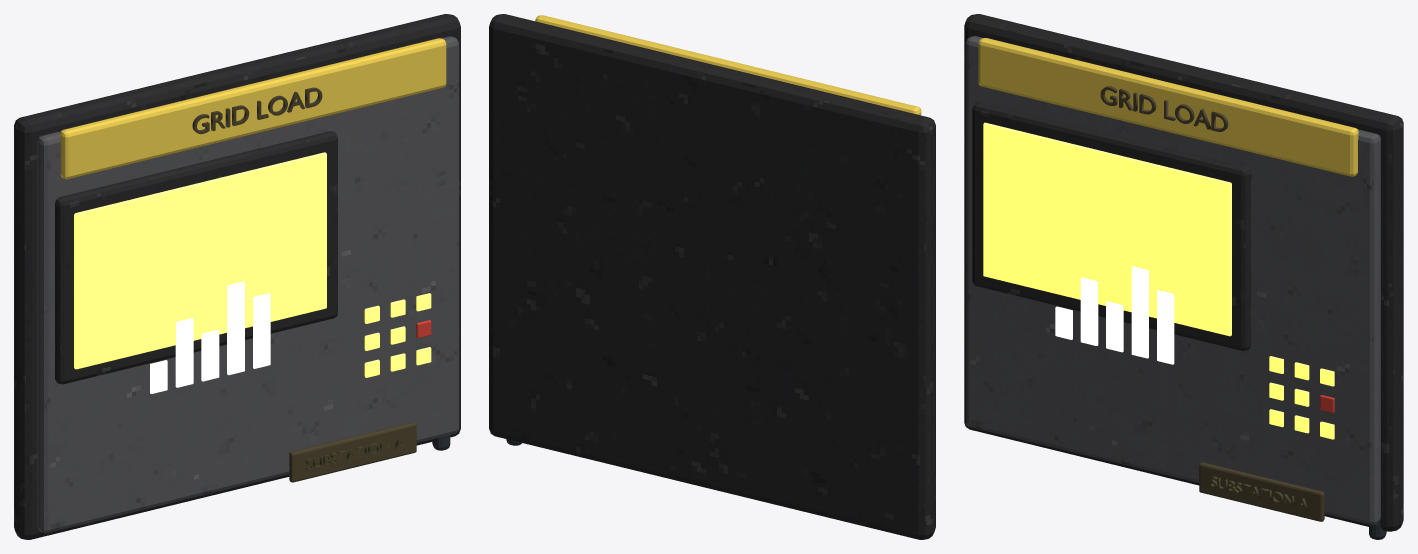
The model's file is decor_eng_power_monitor_console.glb.
The picture shows the model from 3 angles, left to right: view 1: azimuth 30°, elevation 25°; view 2: azimuth 150°, elevation 25°; view 3: azimuth 330°, elevation 25°; orthographic projection.
Parts seen in each view (by area): view 1: DEC_EngPowerMonitorConsole__Panel_Face, DEC_EngPowerMonitorConsole__Screen_Glow, DEC_EngPowerMonitorConsole__Panel_Back, DEC_EngPowerMonitorConsole__Header, DEC_EngPowerMonitorConsole__Screen_Bezel, DEC_EngPowerMonitorConsole__Label_Plate, DEC_EngPowerMonitorConsole__Load_Bar_4, DEC_EngPowerMonitorConsole__Header_Text, DEC_EngPowerMonitorConsole__Load_Bar_5, DEC_EngPowerMonitorConsole__Load_Bar_2, DEC_EngPowerMonitorConsole__Load_Bar_3, DEC_EngPowerMonitorConsole__Label_Text (+1 smaller); view 2: DEC_EngPowerMonitorConsole__Panel_Back, DEC_EngPowerMonitorConsole__Header; view 3: DEC_EngPowerMonitorConsole__Panel_Face, DEC_EngPowerMonitorConsole__Screen_Glow, DEC_EngPowerMonitorConsole__Panel_Back, DEC_EngPowerMonitorConsole__Header, DEC_EngPowerMonitorConsole__Screen_Bezel, DEC_EngPowerMonitorConsole__Label_Plate, DEC_EngPowerMonitorConsole__Load_Bar_4, DEC_EngPowerMonitorConsole__Header_Text, DEC_EngPowerMonitorConsole__Load_Bar_5, DEC_EngPowerMonitorConsole__Load_Bar_2, DEC_EngPowerMonitorConsole__Label_Text, DEC_EngPowerMonitorConsole__Load_Bar_3 (+1 smaller).
Part boxes in pixels (x1=…): DEC_EngPowerMonitorConsole__Panel_Face: x1=37, y1=36, x2=458, y2=533; DEC_EngPowerMonitorConsole__Screen_Glow: x1=74, y1=152, x2=326, y2=369; DEC_EngPowerMonitorConsole__Panel_Back: x1=14, y1=14, x2=460, y2=539; DEC_EngPowerMonitorConsole__Header: x1=60, y1=38, x2=446, y2=179; DEC_EngPowerMonitorConsole__Screen_Bezel: x1=55, y1=131, x2=337, y2=384; DEC_EngPowerMonitorConsole__Label_Plate: x1=289, y1=422, x2=416, y2=482; DEC_EngPowerMonitorConsole__Load_Bar_4: x1=227, y1=281, x2=244, y2=375; DEC_EngPowerMonitorConsole__Header_Text: x1=192, y1=87, x2=322, y2=134; DEC_EngPowerMonitorConsole__Load_Bar_5: x1=253, y1=293, x2=270, y2=368; DEC_EngPowerMonitorConsole__Load_Bar_2: x1=175, y1=318, x2=193, y2=387; DEC_EngPowerMonitorConsole__Load_Bar_3: x1=201, y1=329, x2=219, y2=381; DEC_EngPowerMonitorConsole__Label_Text: x1=306, y1=436, x2=405, y2=470; DEC_EngPowerMonitorConsole__Panel_Back: x1=489, y1=14, x2=935, y2=539; DEC_EngPowerMonitorConsole__Header: x1=535, y1=15, x2=921, y2=115; DEC_EngPowerMonitorConsole__Panel_Face: x1=966, y1=36, x2=1380, y2=524; DEC_EngPowerMonitorConsole__Screen_Glow: x1=983, y1=122, x2=1231, y2=336; DEC_EngPowerMonitorConsole__Panel_Back: x1=964, y1=14, x2=1403, y2=531; DEC_EngPowerMonitorConsole__Header: x1=978, y1=38, x2=1358, y2=176; DEC_EngPowerMonitorConsole__Screen_Bezel: x1=972, y1=101, x2=1250, y2=350; DEC_EngPowerMonitorConsole__Label_Plate: x1=1199, y1=462, x2=1324, y2=521; DEC_EngPowerMonitorConsole__Load_Bar_4: x1=1131, y1=266, x2=1148, y2=358; DEC_EngPowerMonitorConsole__Header_Text: x1=1100, y1=86, x2=1228, y2=131; DEC_EngPowerMonitorConsole__Load_Bar_5: x1=1157, y1=290, x2=1174, y2=364; DEC_EngPowerMonitorConsole__Load_Bar_2: x1=1080, y1=277, x2=1098, y2=345; DEC_EngPowerMonitorConsole__Label_Text: x1=1210, y1=476, x2=1308, y2=510; DEC_EngPowerMonitorConsole__Load_Bar_3: x1=1106, y1=301, x2=1123, y2=352.
Size of the model in its own units: 1.54 by 1.43 by 0.175.
Materials: 8 (2 with a texture image).
